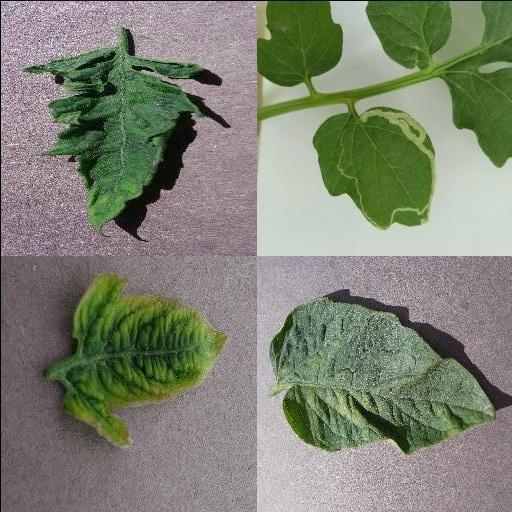Leaf Miner: (310, 105, 436, 228)
Mosaic Virus: (20, 47, 208, 237)
Spider Mites: (269, 298, 495, 456)
Yellow Leaf Curl Virus: (57, 271, 229, 449)
